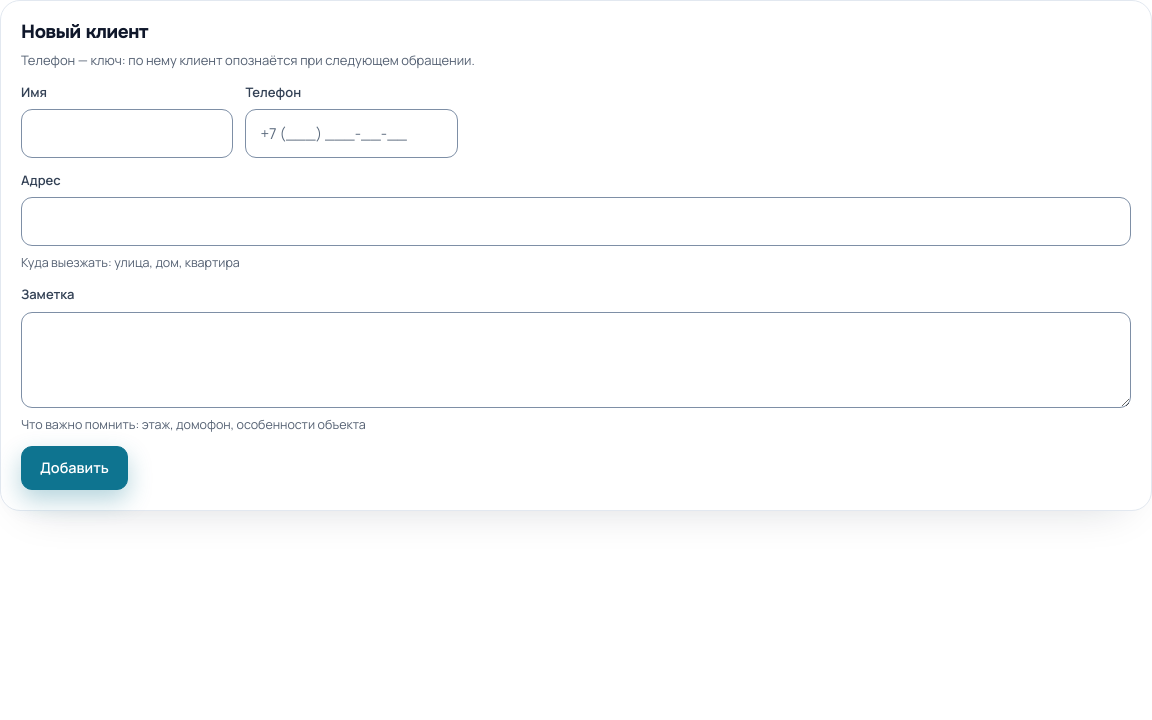
Scenario: Форма клиента › 🔴 занятый телефон подсвечивает поле, а не прячется в общей ошибке
Type "Пётр" into the field labelled "Имя" at [127, 133], box [21,109,233,158]
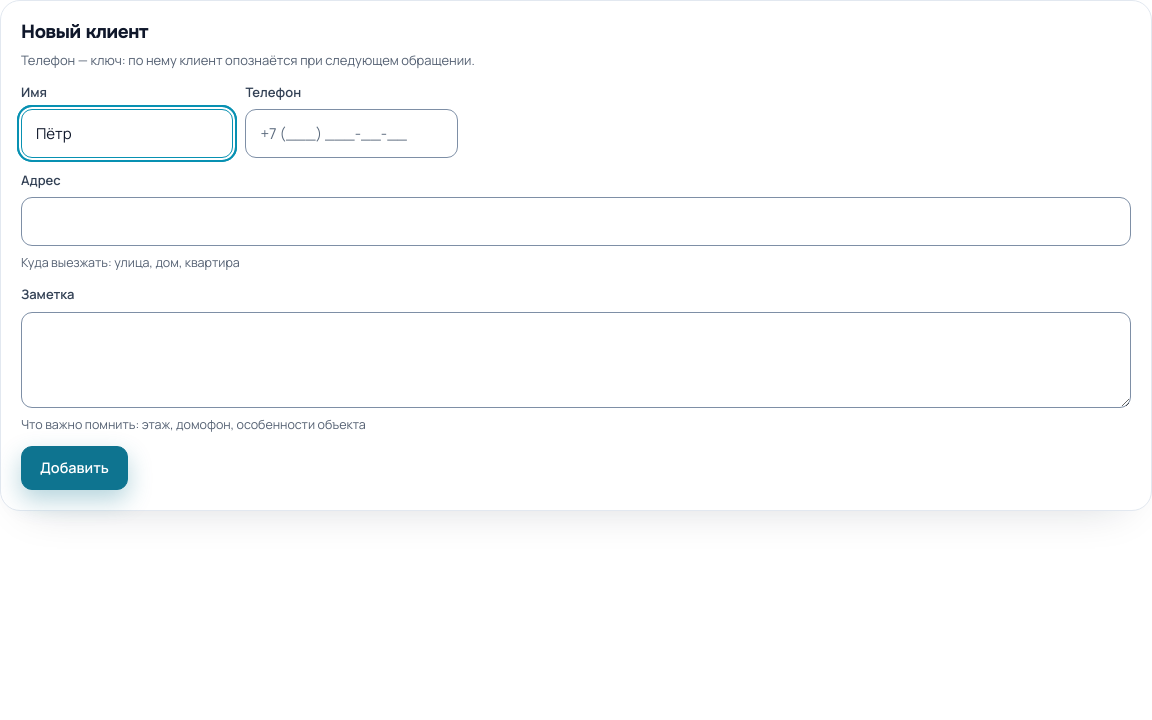
Type "9101552468" into the field labelled "Телефон" at [352, 133], box [245,109,458,158]
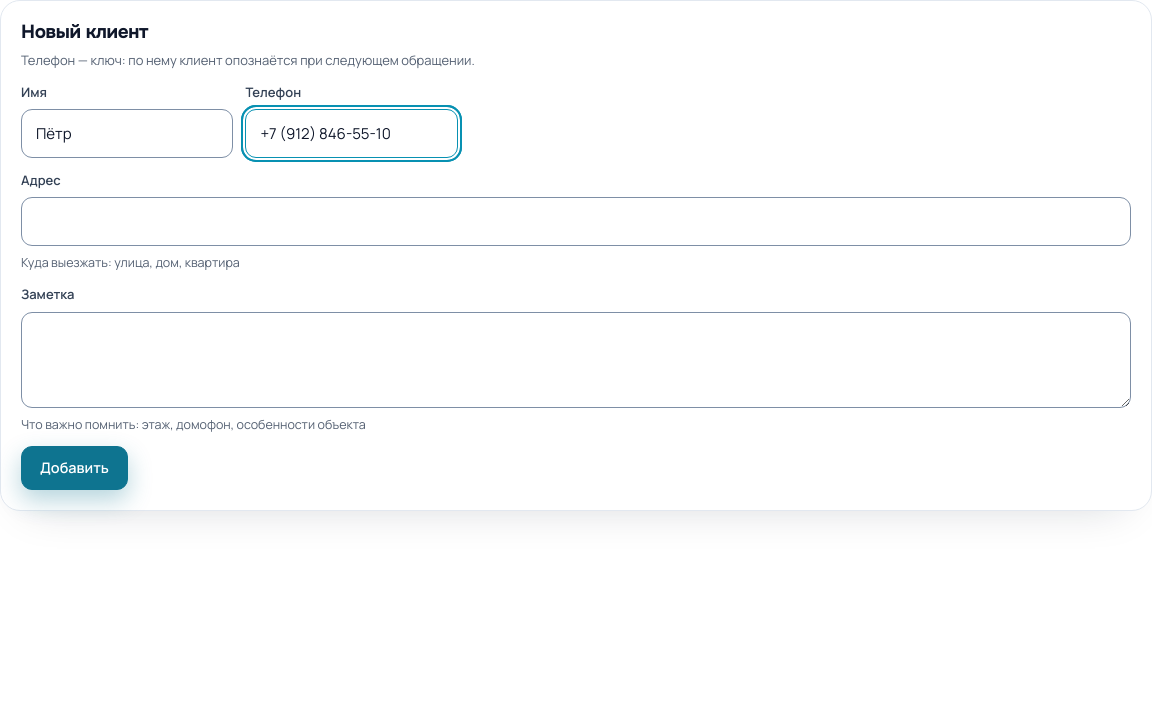
Click the button "Добавить" at [74, 468], box [21,446,128,490]
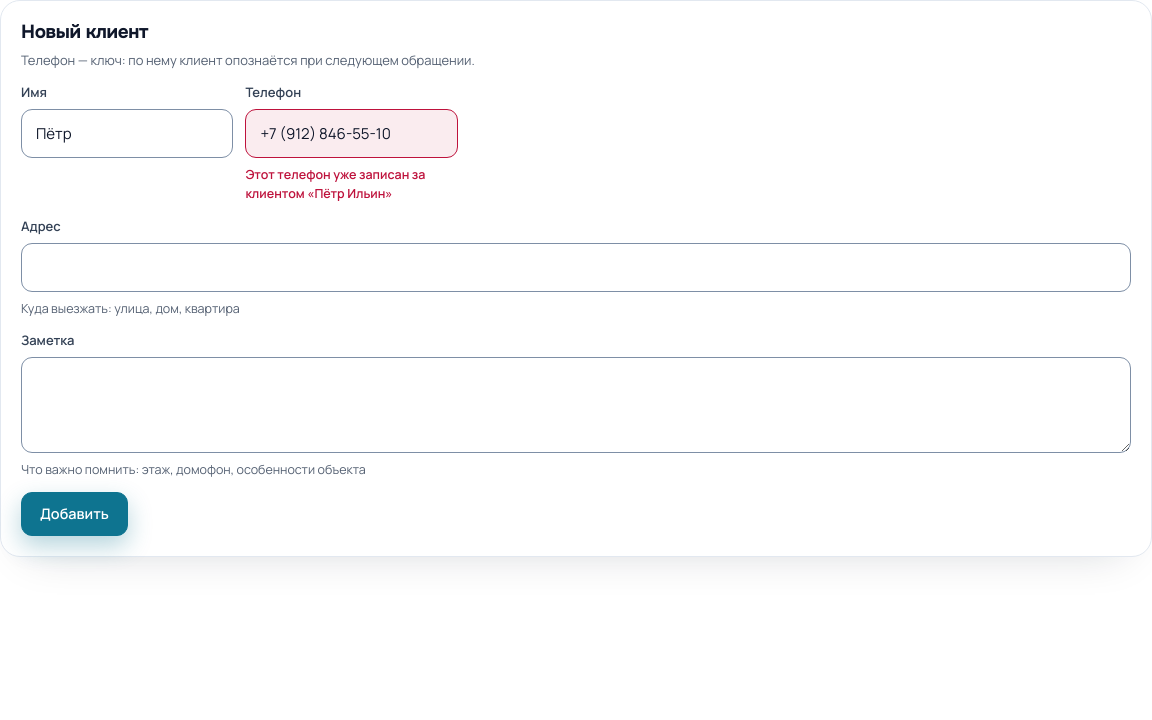
Check: the text "Этот телефон уже записан за клиентом «Пётр Ильин»" is shown, box [245,166,425,202]
